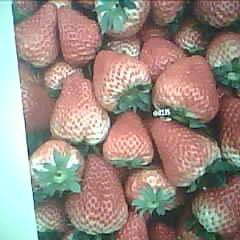straw-ripe: (67, 154, 129, 235), (152, 118, 219, 186), (153, 55, 219, 123), (49, 77, 110, 143), (93, 50, 152, 110), (13, 4, 58, 68), (103, 111, 153, 167)
